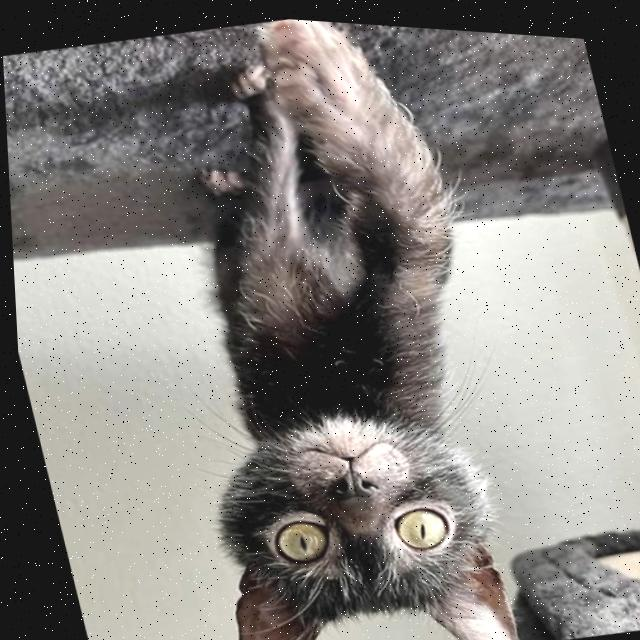Lykoi: (80, 4, 566, 640)
